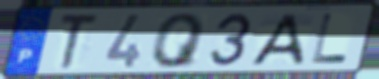3: (207, 11, 253, 69)
4: (103, 12, 143, 71)
A: (247, 12, 306, 67)
L: (309, 12, 350, 65)
Q: (150, 12, 207, 70)
T: (57, 12, 101, 73)
